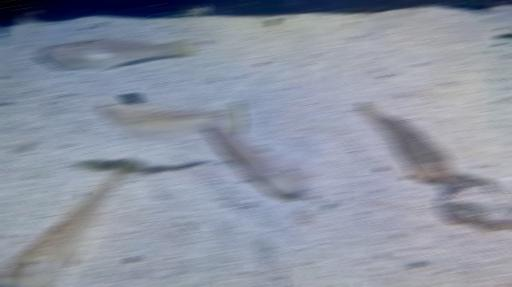Fish: (1, 156, 130, 286), (209, 105, 310, 195), (357, 102, 454, 183), (207, 122, 310, 195), (98, 98, 243, 141), (36, 39, 193, 70), (121, 93, 140, 104), (280, 276, 283, 286)
